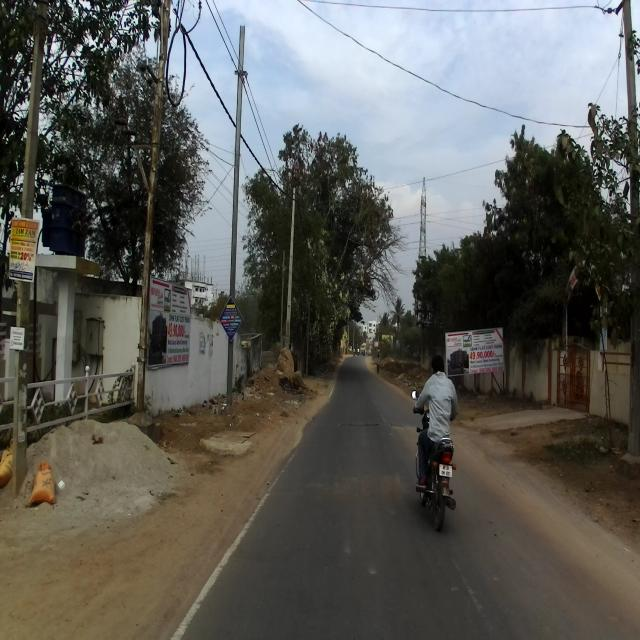electric pole ahead at: (10, 0, 40, 489), (226, 8, 246, 412)
motorcycle ahead at: (412, 344, 459, 534)
